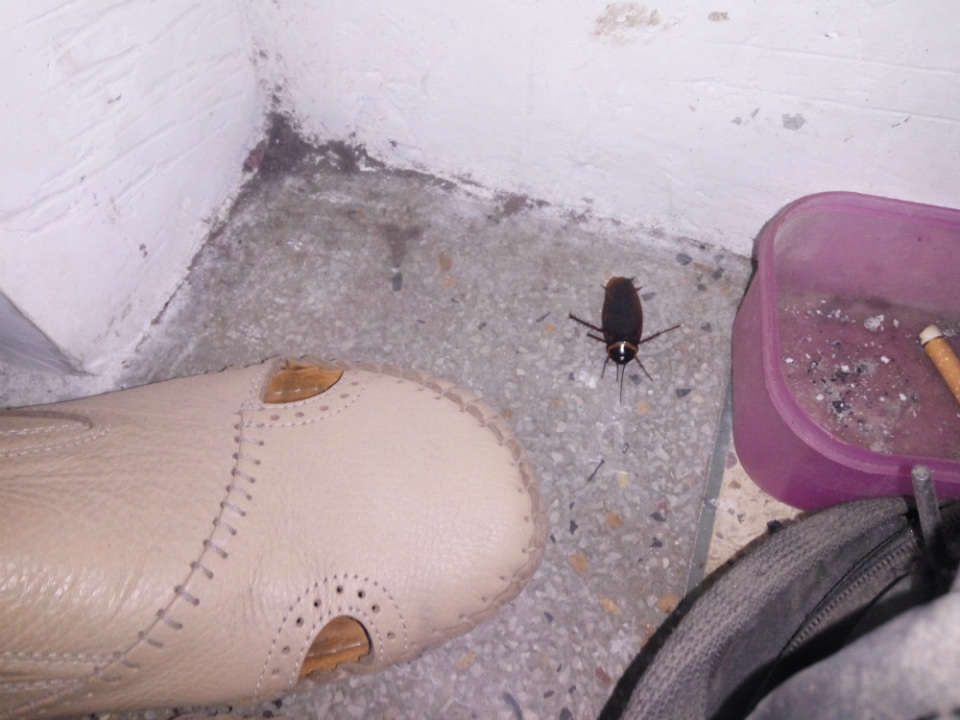cockroach: (536, 232, 698, 405)
